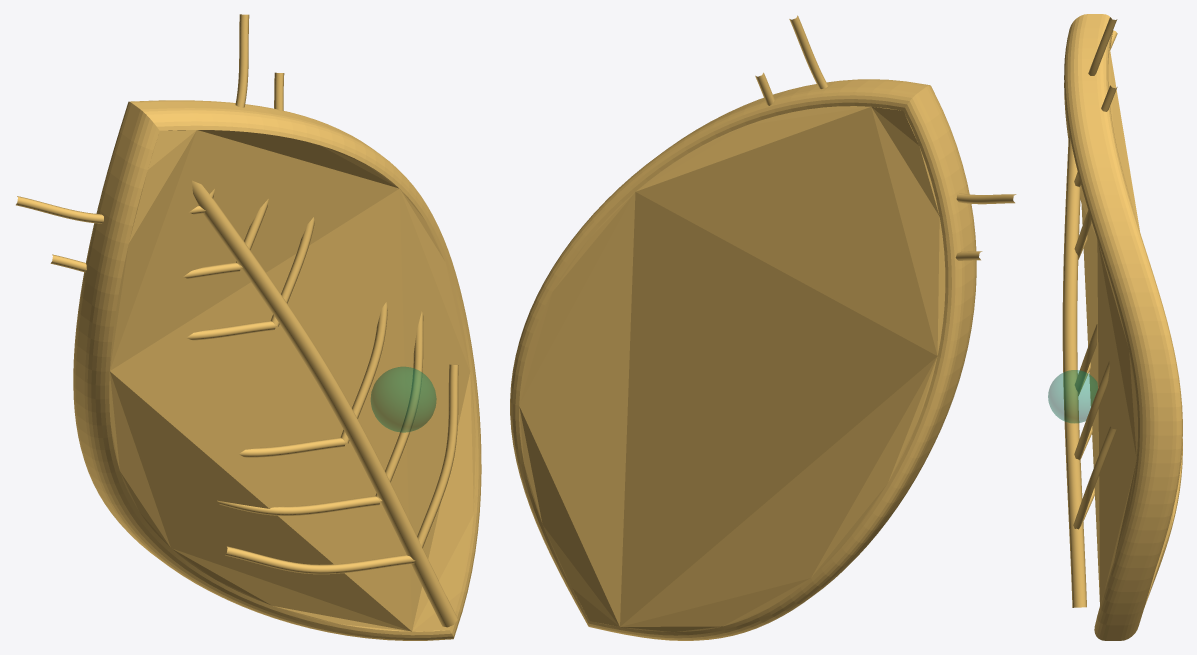
Rendered from escultorica.glb.
The picture shows the model from 3 angles, left to right: view 1: azimuth 30°, elevation 25°; view 2: azimuth 150°, elevation 25°; view 3: azimuth 270°, elevation 25°; orthographic projection. The views are drawn at different scales.
Size of the model in its own units: 1.86 by 2.46 by 0.5526.
